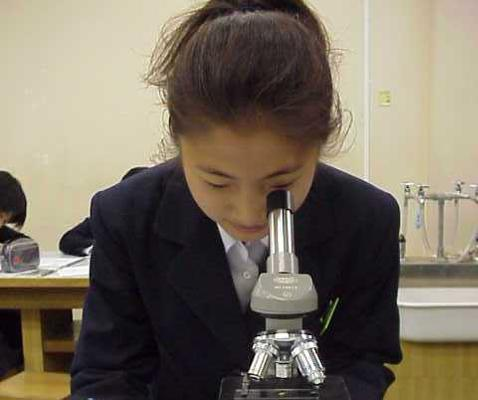person: (71, 2, 405, 400)
